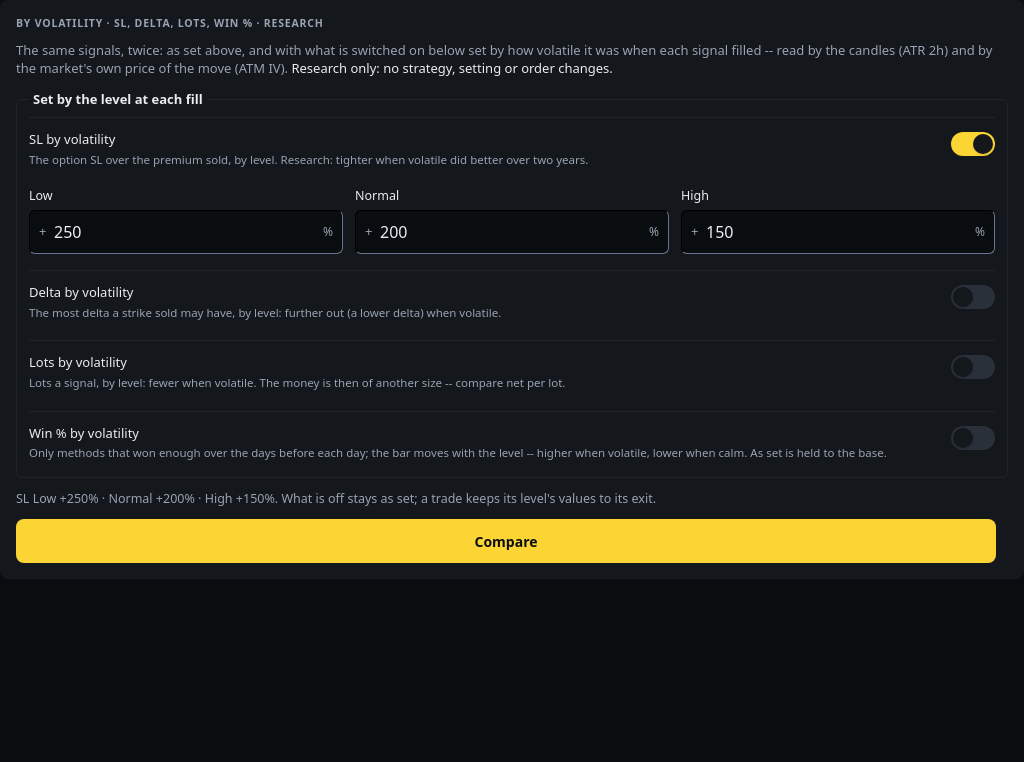
VolStudy › [critical] with the lots by level the money is of another size: lots traded and net per lot, and the verdict per lot
Click the button "Compare": (506, 541) [16,519,996,563]
(page scrolled)
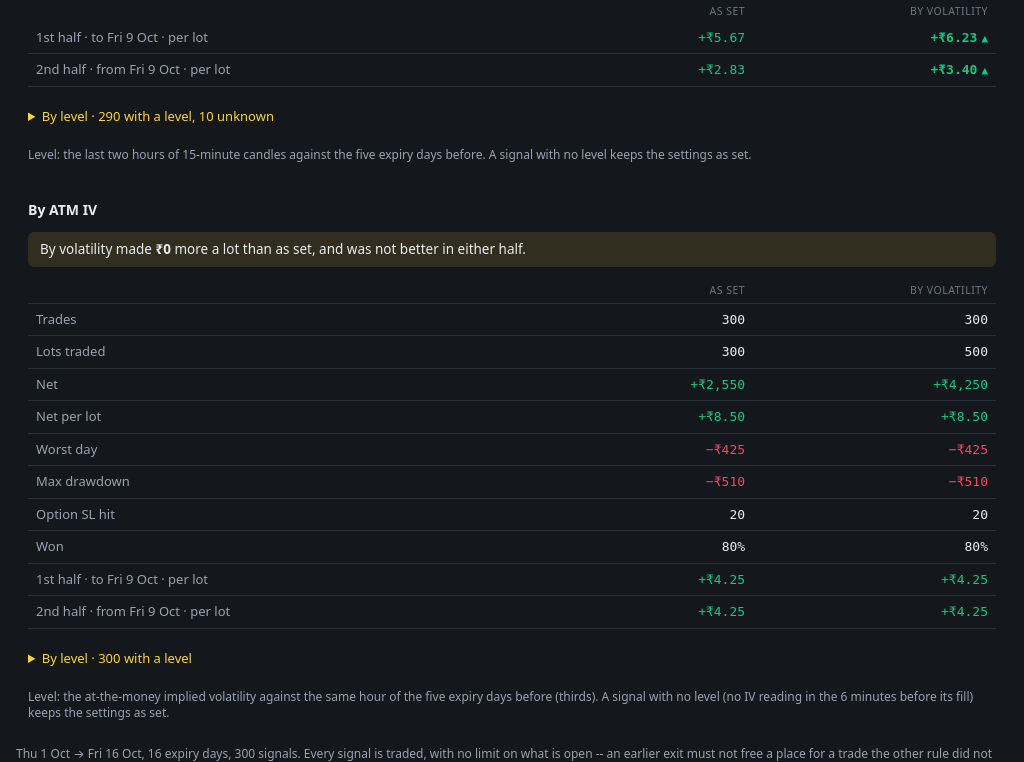
Expected: the cell "+₹4,250" does not show "(better)", [753,368,996,400]
Expected: the row "Lots traded 300 500" is shown, [28,336,996,368]
